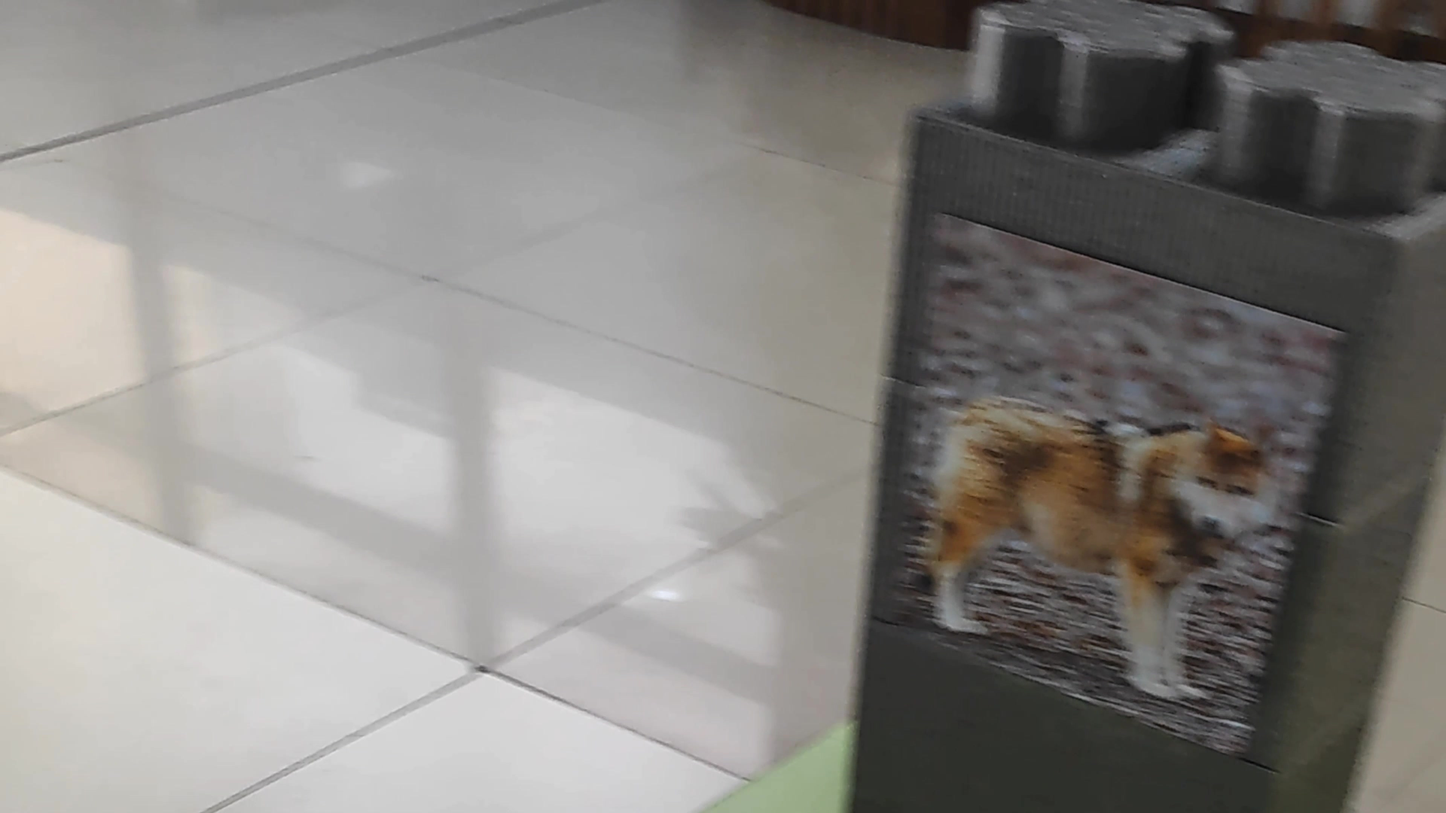wolf: (895, 344, 1278, 716)
